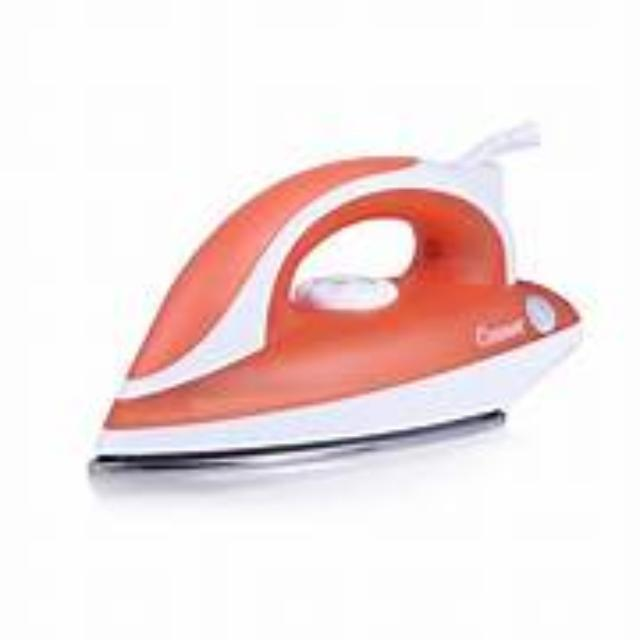Clothes-Iron: (62, 140, 602, 452)
